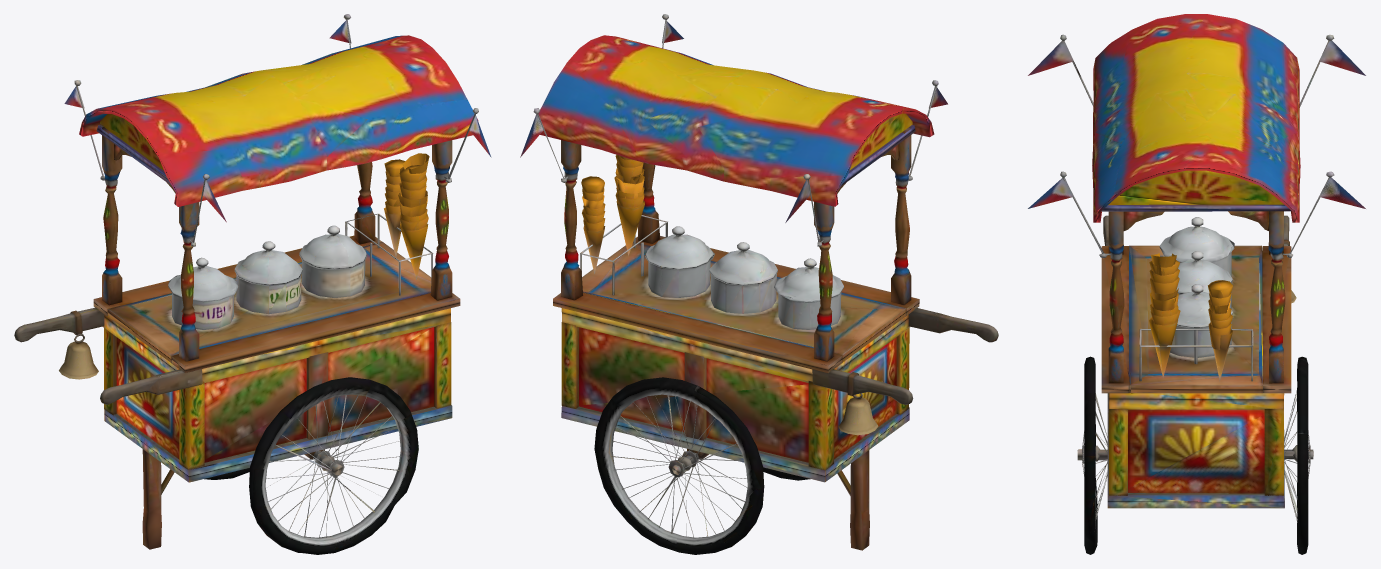
The model's file is sorbetes-cart.glb.
The picture shows the model from 3 angles, left to right: view 1: azimuth 30°, elevation 25°; view 2: azimuth 150°, elevation 25°; view 3: azimuth 270°, elevation 25°; orthographic projection. The views are drawn at different scales.
Visible parts, largest first — view 1: geometry_0; view 2: geometry_0; view 3: geometry_0.
Part boxes in pixels (x1=…): geometry_0: x1=14, y1=14, x2=491, y2=554; geometry_0: x1=520, y1=14, x2=998, y2=554; geometry_0: x1=1028, y1=14, x2=1365, y2=554.
Bounding box in the file's own units: 0.8506 × 0.9526 × 0.6465.
1 material, 1 textured.
